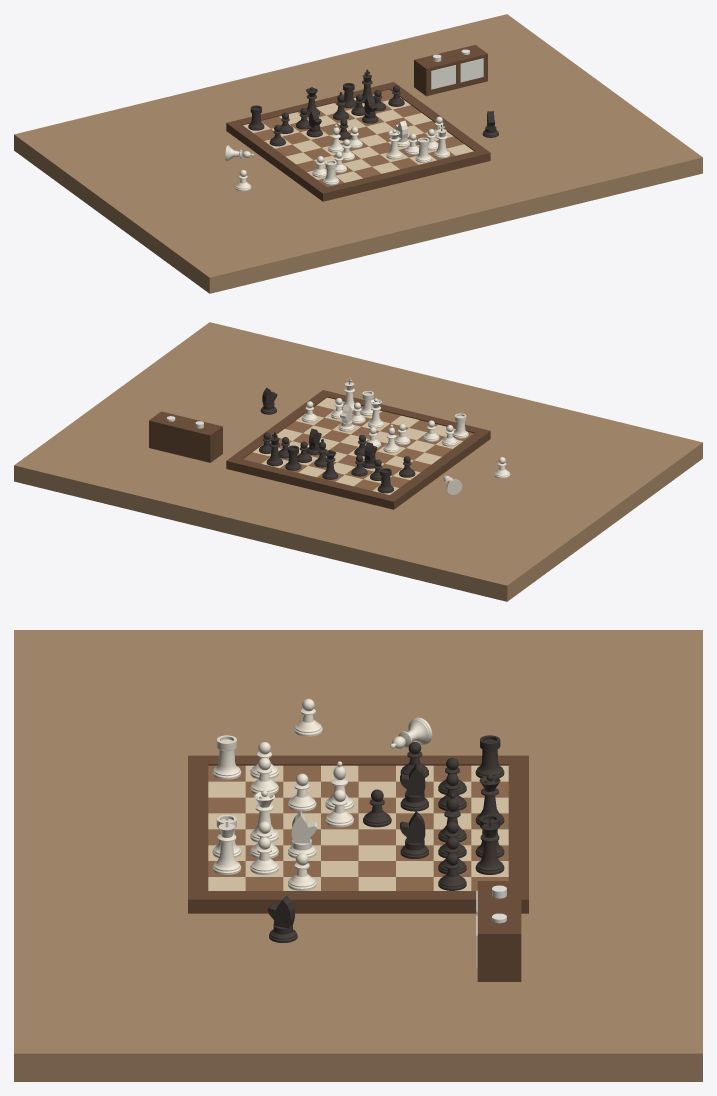
The picture shows the model from 3 angles, top to bottom: view 1: azimuth 30°, elevation 25°; view 2: azimuth 150°, elevation 25°; view 3: azimuth 270°, elevation 25°; orthographic projection. The views are drawn at different scales.
Visible parts, largest first — view 1: table, board, clock; view 2: table, board, clock; view 3: table, board, clock, captured-black-knight, black-knight-c6, black-knight-f6, white-king-g1, black-king-g8, white-knight-f3, white-rook-a1, black-rook-a8, captured-white-bishop (+2 smaller).
Part boxes in pixels (x1=…): table: x1=14, y1=14, x2=702, y2=293; board: x1=226, y1=82, x2=490, y2=201; clock: x1=414, y1=45, x2=487, y2=96; table: x1=14, y1=322, x2=702, y2=601; board: x1=226, y1=390, x2=490, y2=509; clock: x1=149, y1=411, x2=222, y2=462; table: x1=14, y1=630, x2=702, y2=1081; board: x1=188, y1=755, x2=528, y2=913; clock: x1=476, y1=881, x2=521, y2=981; captured-black-knight: x1=267, y1=895, x2=297, y2=942; black-knight-c6: x1=400, y1=763, x2=428, y2=811; black-knight-f6: x1=400, y1=811, x2=428, y2=858; white-king-g1: x1=212, y1=815, x2=241, y2=874; black-king-g8: x1=475, y1=815, x2=504, y2=874; white-knight-f3: x1=288, y1=811, x2=316, y2=858; white-rook-a1: x1=212, y1=735, x2=241, y2=779; black-rook-a8: x1=475, y1=735, x2=504, y2=778; captured-white-bishop: x1=390, y1=717, x2=432, y2=749.
Size of the model in its own units: 1.6 by 0.1656 by 1.1.
